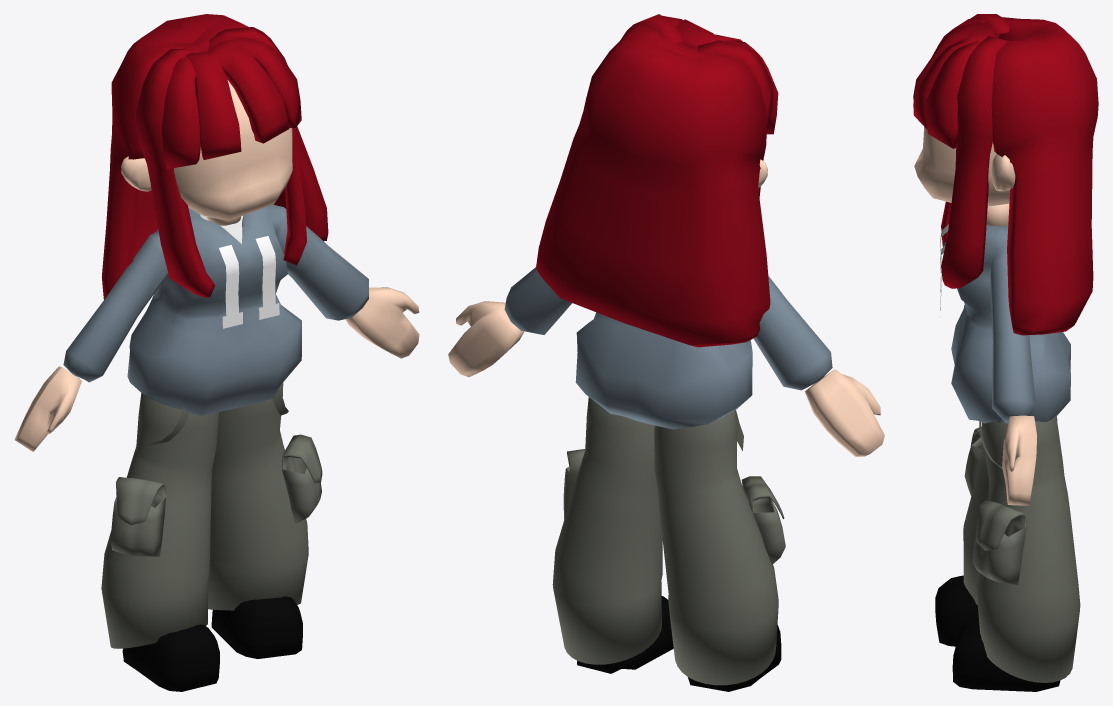
Rendered from umi_idle_1.glb.
3 renders of one model, left to right at view 1: azimuth 30°, elevation 25°; view 2: azimuth 150°, elevation 25°; view 3: azimuth 270°, elevation 25°, orthographic. The views are drawn at different scales.
Parts seen in each view (by area): view 1: pants, sweater, hair.003, hair.001, feet, head, hair, bolsillo, hand, hair.002, Plane, ear; view 2: hair.003, pants, sweater, hand, bolsillo, hair.001, feet, hair; view 3: hair.003, pants, sweater, hair.001, feet, bolsillo, hair.002, hand, head, hair, ear, neck.
Part boxes in pixels (left/top/right/bottom): pants: left=101, top=382, right=308, bottom=648; sweater: left=63, top=204, right=368, bottom=415; hair.003: left=102, top=14, right=328, bottom=299; hair.001: left=136, top=27, right=306, bottom=297; feet: left=122, top=596, right=302, bottom=691; head: left=174, top=80, right=292, bottom=220; hair: left=186, top=40, right=288, bottom=159; bolsillo: left=111, top=434, right=322, bottom=556; hand: left=14, top=287, right=419, bottom=451; hair.002: left=161, top=37, right=301, bottom=169; Plane: left=219, top=236, right=279, bottom=328; ear: left=121, top=128, right=295, bottom=191; hair.003: left=536, top=23, right=770, bottom=347; pants: left=552, top=397, right=778, bottom=685; sweater: left=504, top=267, right=832, bottom=429; hand: left=448, top=301, right=884, bottom=456; bolsillo: left=563, top=449, right=785, bottom=564; hair.001: left=621, top=14, right=773, bottom=197; feet: left=577, top=596, right=781, bottom=691; hair: left=676, top=19, right=742, bottom=46; hair.003: left=991, top=17, right=1098, bottom=335; pants: left=963, top=416, right=1080, bottom=682; sweater: left=943, top=225, right=1070, bottom=423; hair.001: left=941, top=14, right=1010, bottom=288; feet: left=935, top=575, right=1060, bottom=691; bolsillo: left=964, top=426, right=1026, bottom=584; hair.002: left=926, top=19, right=985, bottom=148; hand: left=1002, top=415, right=1036, bottom=505; head: left=914, top=127, right=1010, bottom=205; hair: left=913, top=21, right=997, bottom=128; ear: left=991, top=153, right=1015, bottom=191; neck: left=986, top=203, right=1009, bottom=226.
Size of the model in its own units: 3.46 by 5.01 by 1.35.
